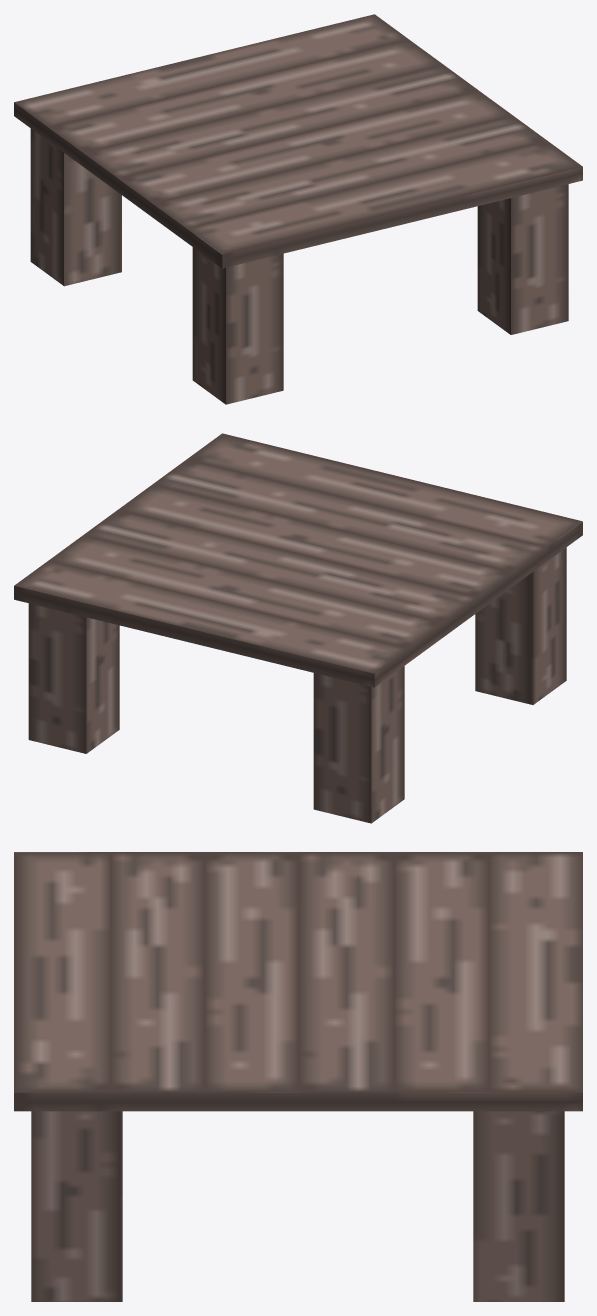
Rendered from Platform.fbx.
3 views of the same model, one above another, from view 1: azimuth 30°, elevation 25°; view 2: azimuth 150°, elevation 25°; view 3: azimuth 270°, elevation 25° (orthographic). The views are drawn at different scales.
Visible parts, largest first — view 1: Platform; view 2: Platform; view 3: Platform.
Boxes of the visible parts, x1,y1,x2,y2 form: Platform: (14, 14, 582, 404); Platform: (14, 433, 582, 823); Platform: (14, 852, 582, 1301).
Bounding box in the file's own units: 200 × 83.26 × 200.
